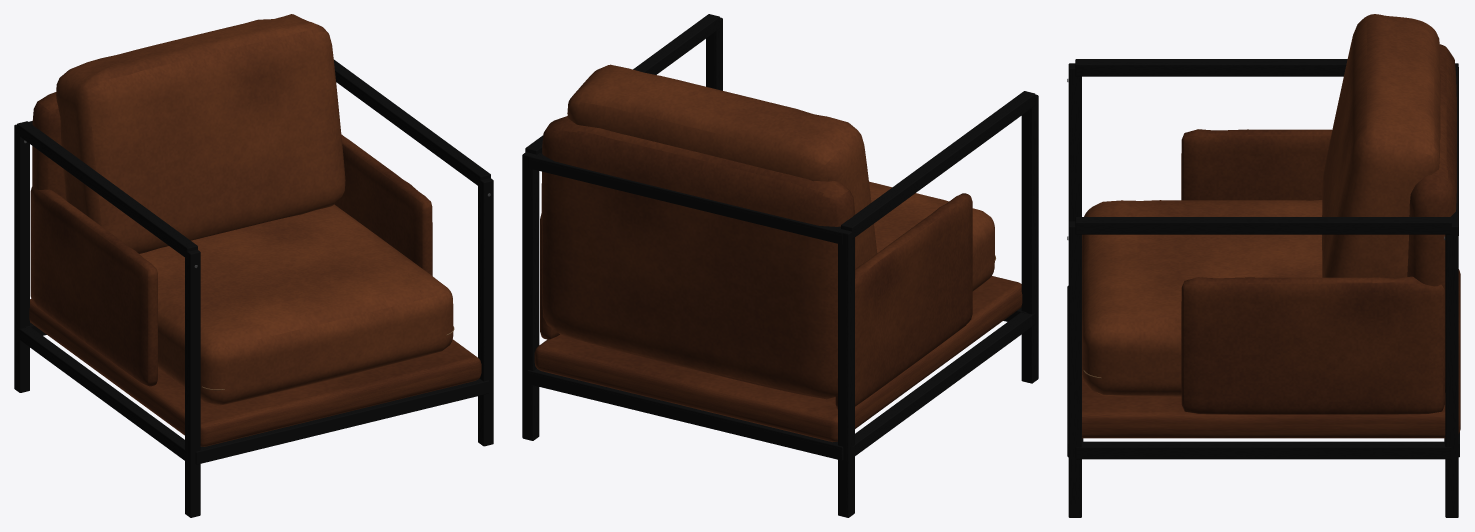
The model's file is industrial_poltrona.glb.
The picture shows the model from 3 angles, left to right: view 1: azimuth 30°, elevation 25°; view 2: azimuth 150°, elevation 25°; view 3: azimuth 270°, elevation 25°; orthographic projection. The views are drawn at different scales.
Parts seen in each view (by area): view 1: poltrona; view 2: poltrona; view 3: poltrona.
Boxes of the visible parts, box(x1,y1,x2,y2) form: poltrona: box(14, 14, 493, 517); poltrona: box(522, 14, 1038, 517); poltrona: box(1067, 14, 1460, 517).
Bounding box in the file's own units: 0.782 × 0.817 × 0.793.
5 materials, 3 textured.
